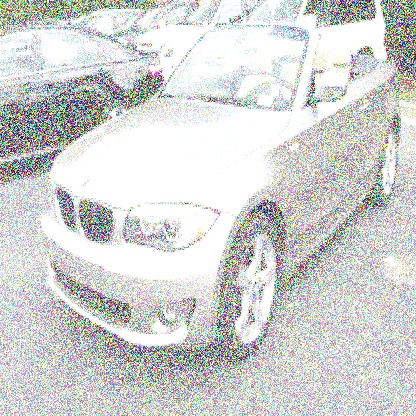Vehicle: (44, 25, 405, 361)
